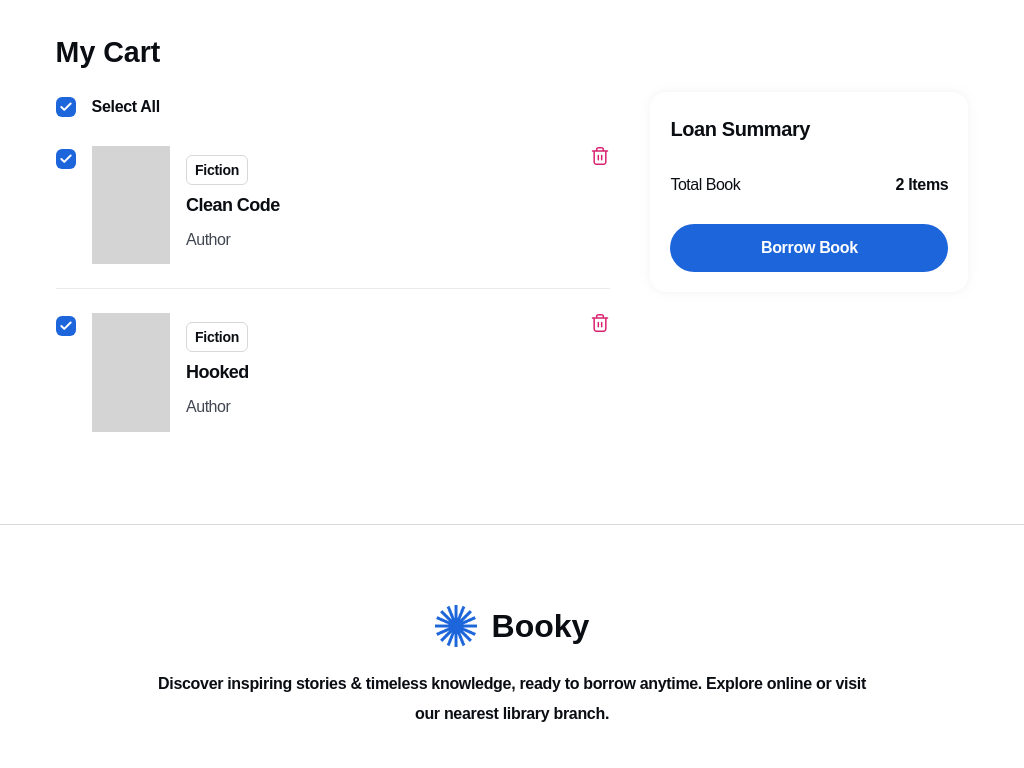
Test: CartPage › removes a book by its cart item id and refreshes the list
The image size is (1024, 768).
Click the 1st button named "Remove from cart".
click(600, 156)  # box [590,146,610,166]
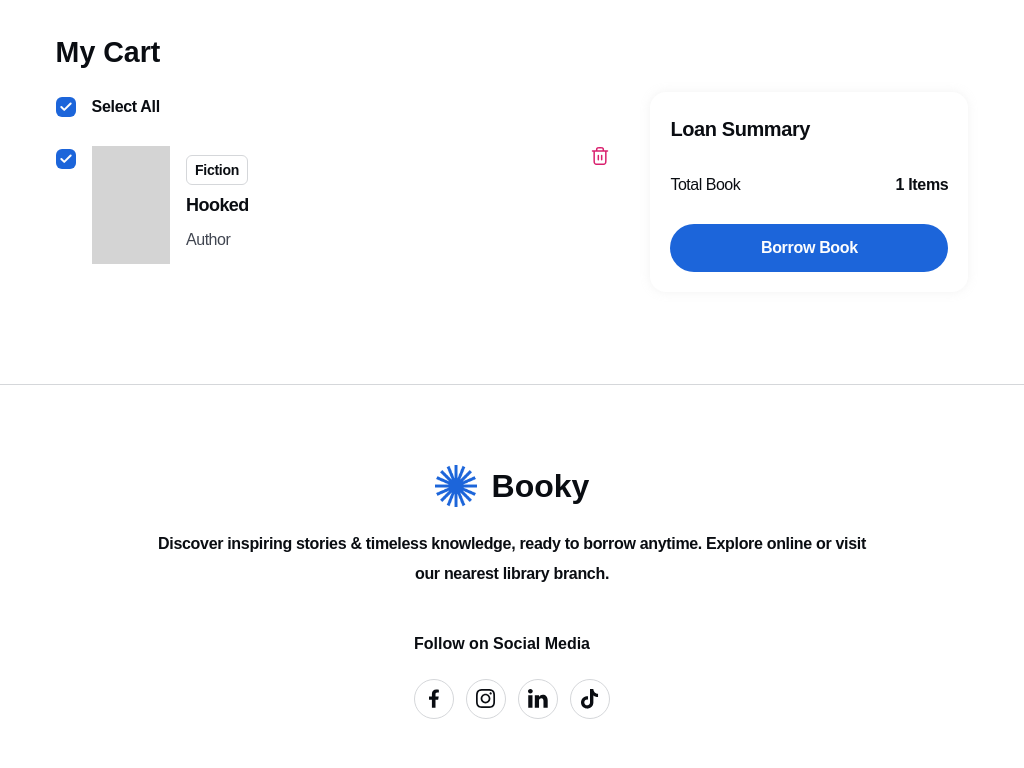
Expected: the text "Hooked" is shown, [186,195,249,215]
Now the text "Clean Code" is gone
